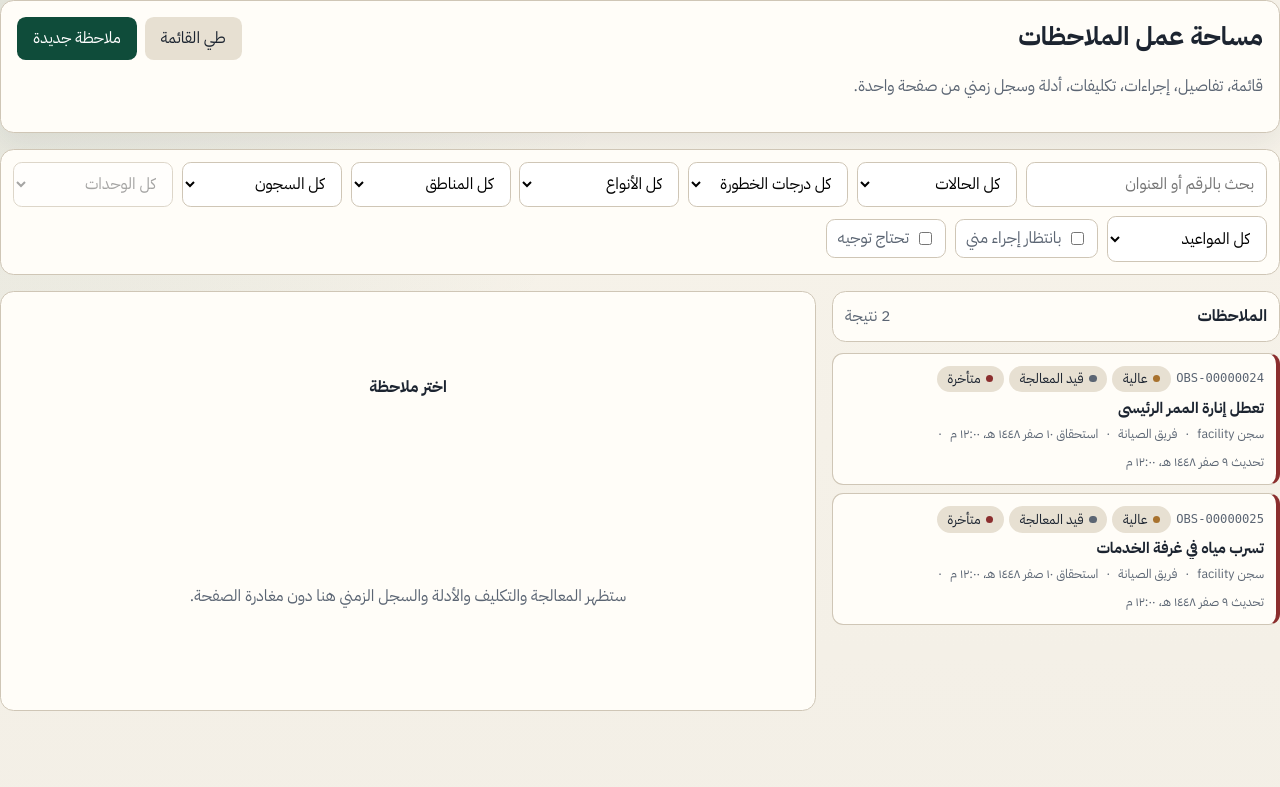
Test case: ObservationWorkspacePage › clears inline action state when switching selected notes
The width and height of the screenshot is (1280, 787).
Click the button "OBS-00000024" at (1220, 378), box [832,352,1279,484]
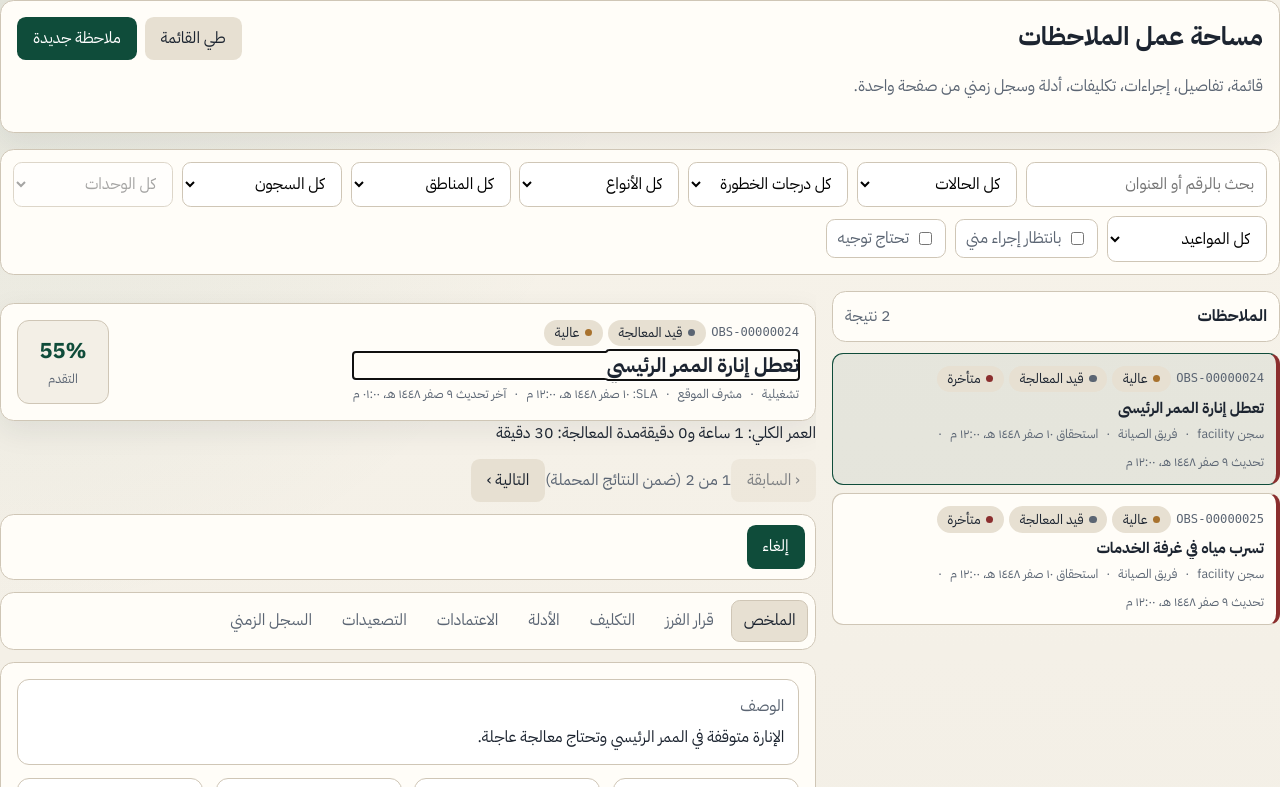
Result: the heading "تعطل إنارة الممر الرئيسي" is shown at [607,350,799,380]
Click the button "إلغاء" at (776, 547), box [746,525,805,569]
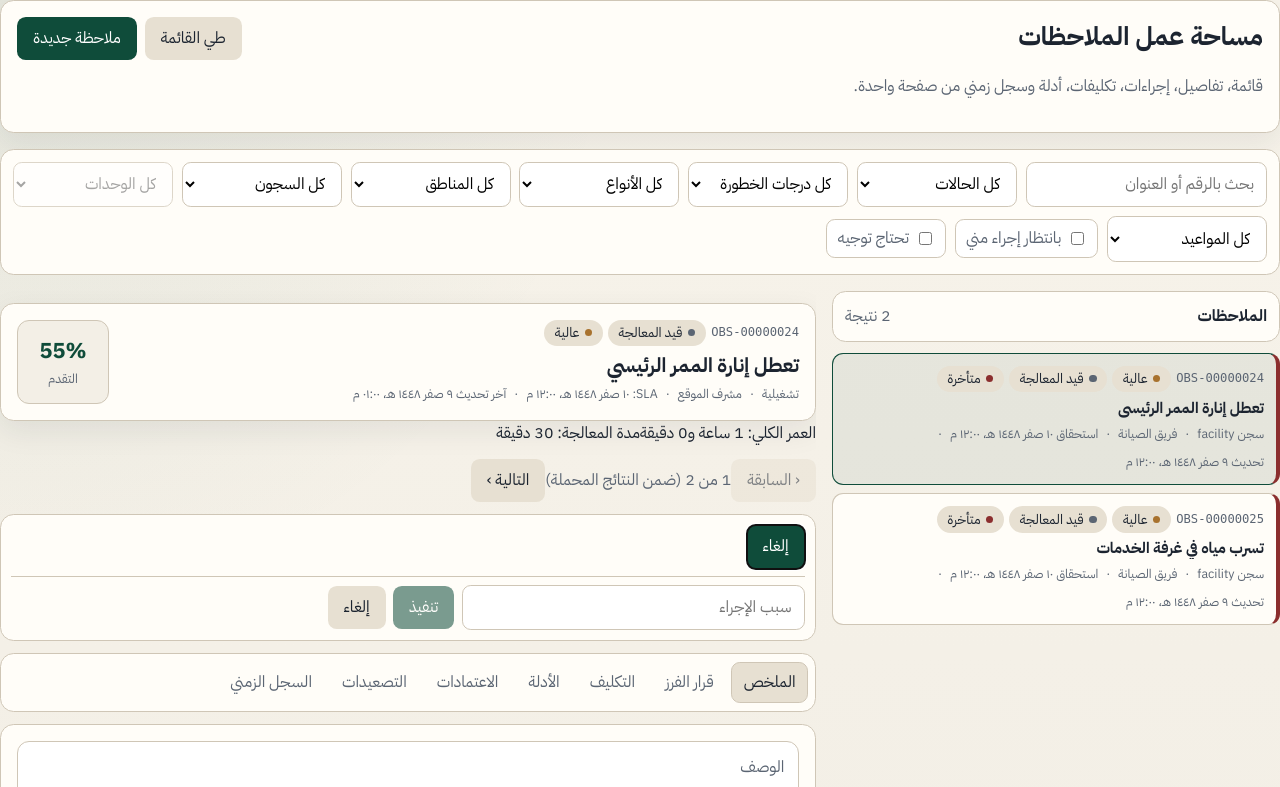
Type "سبب تشغيلي واضح" into the field labelled "سبب الإجراء" at (633, 607), box [462,585,805,630]
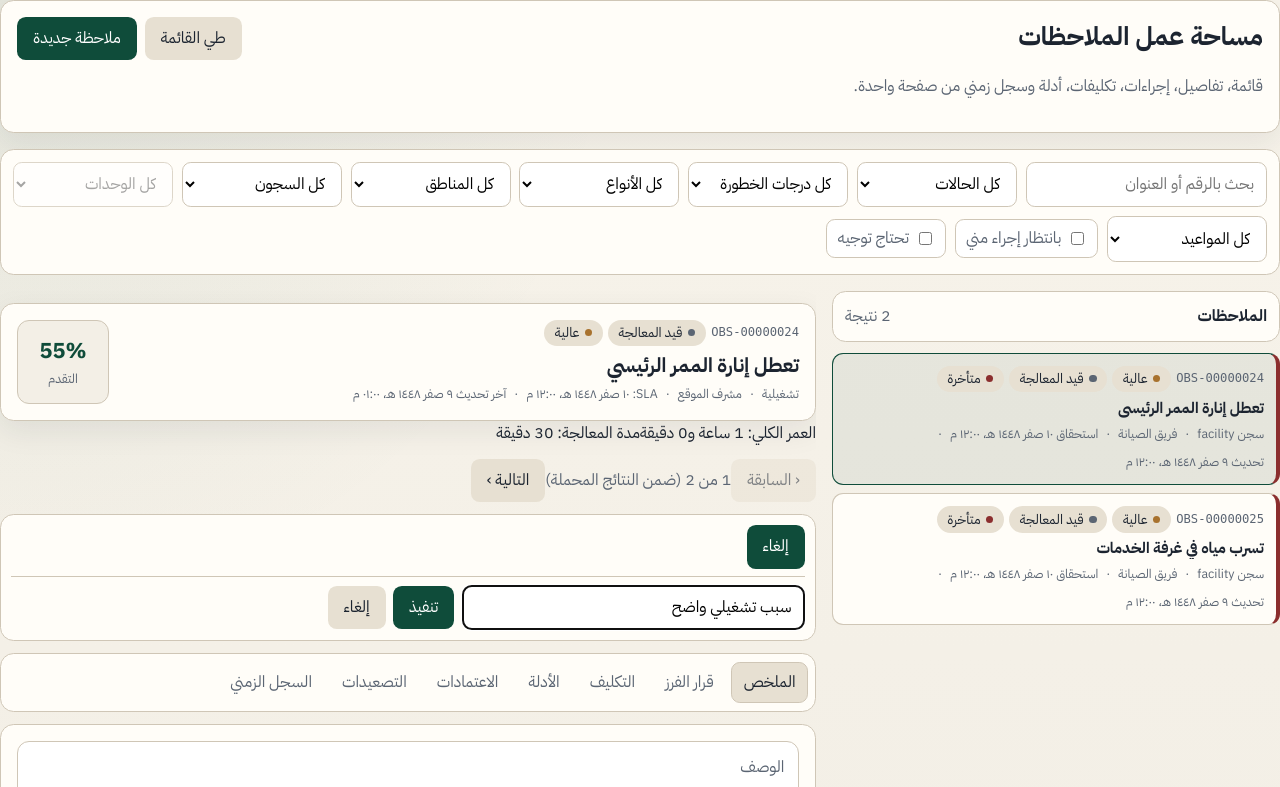
Click the button "OBS-00000025" at (1220, 519), box [832,493,1279,625]
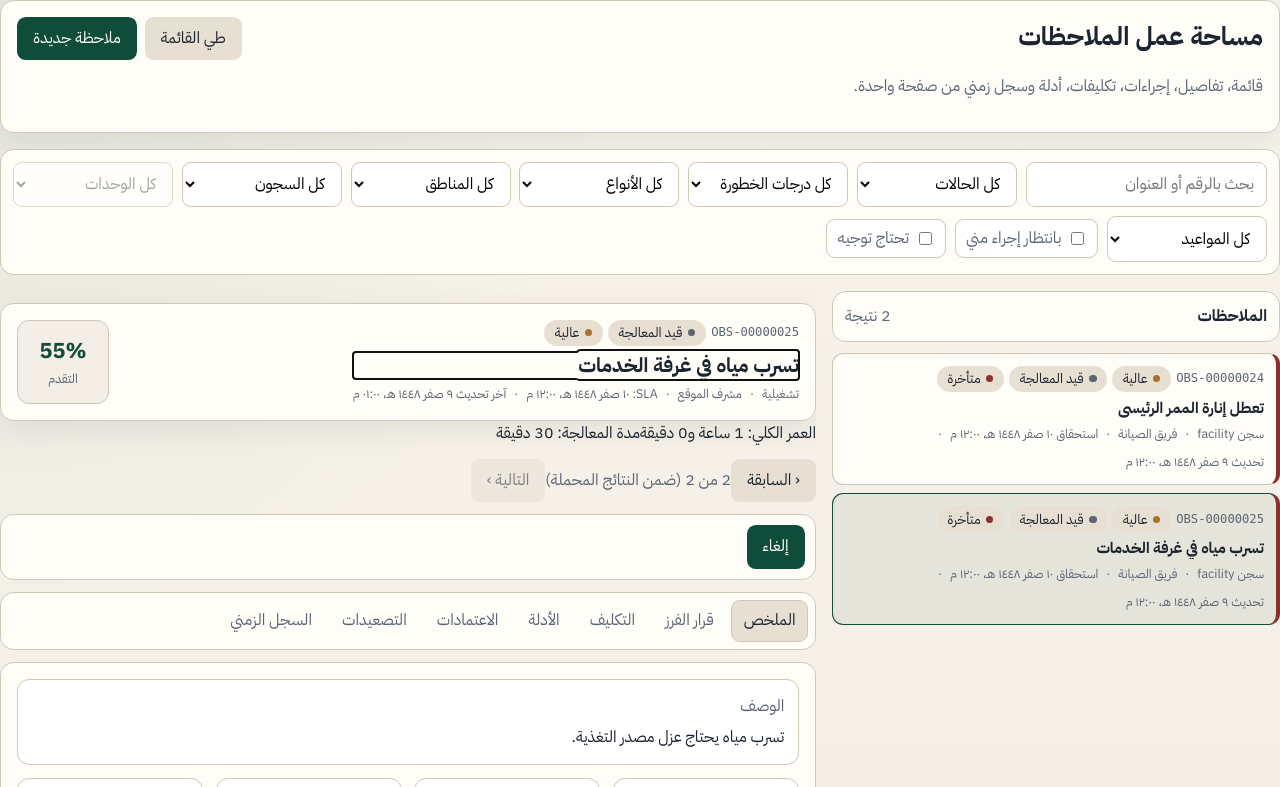
Expected: the field labelled "سبب الإجراء" is not shown
Result: the heading "تسرب مياه في غرفة الخدمات" is shown at [578,350,799,380]
